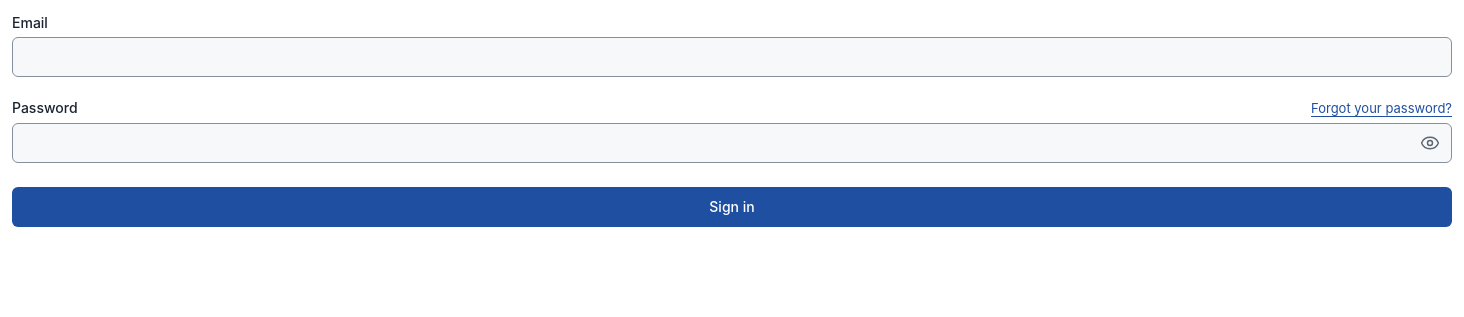
login form › shows the server's refusal in one sentence, with an icon, and stays on the page
In the field labelled "Email": (732, 57) [12,37,1452,77], type "a@b.co"
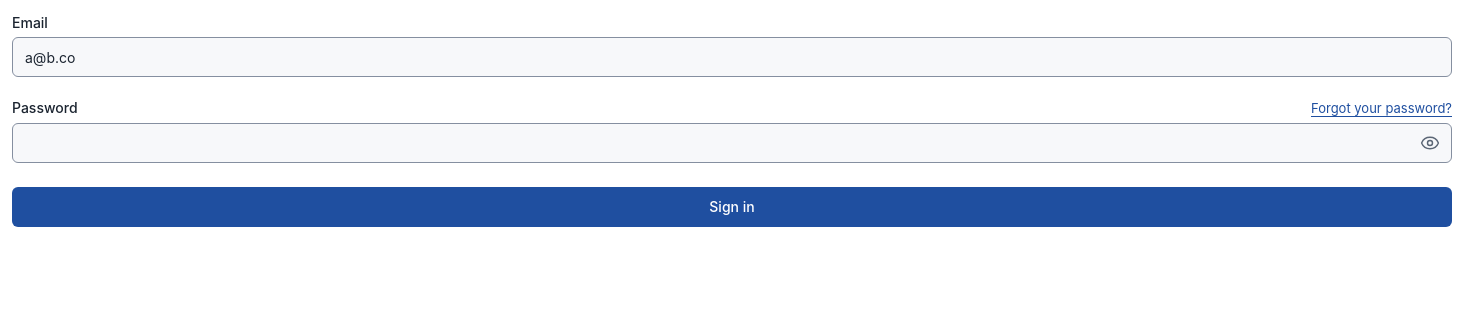
In the password field labelled "Password": (732, 142) [12,122,1452,162], type "wrong"
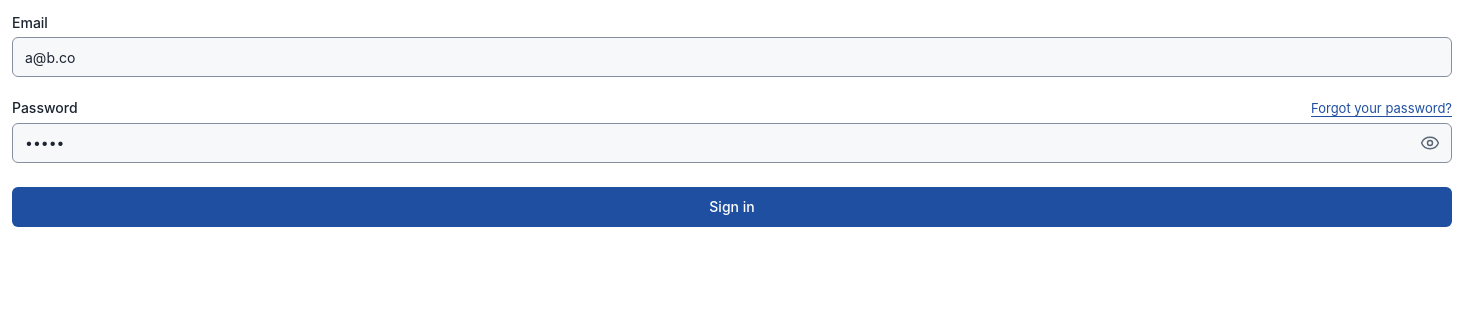
Click the button "Sign in": (732, 206) [12,186,1452,226]
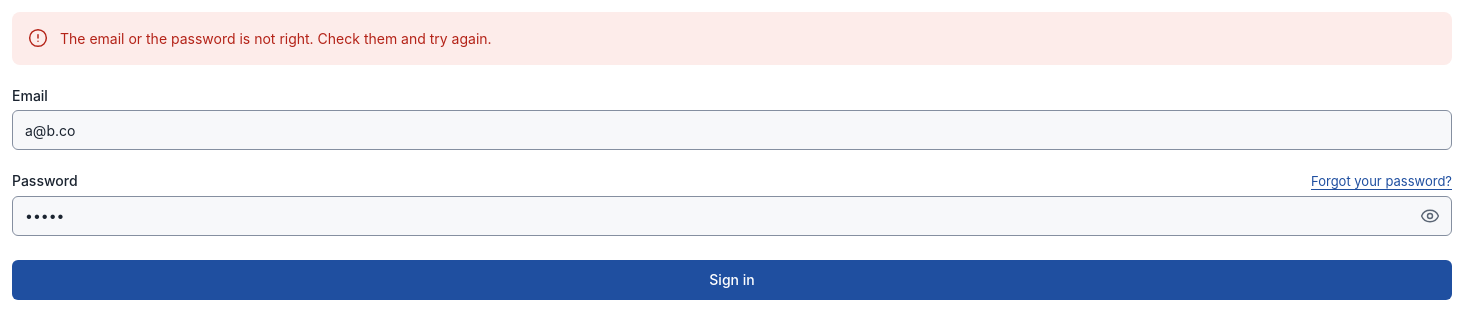
Expected: the message reads "The email or the password is not right. Check them and try again.", [60,30,492,47]
Expected: the 1st icon is shown, [28,28,48,48]
